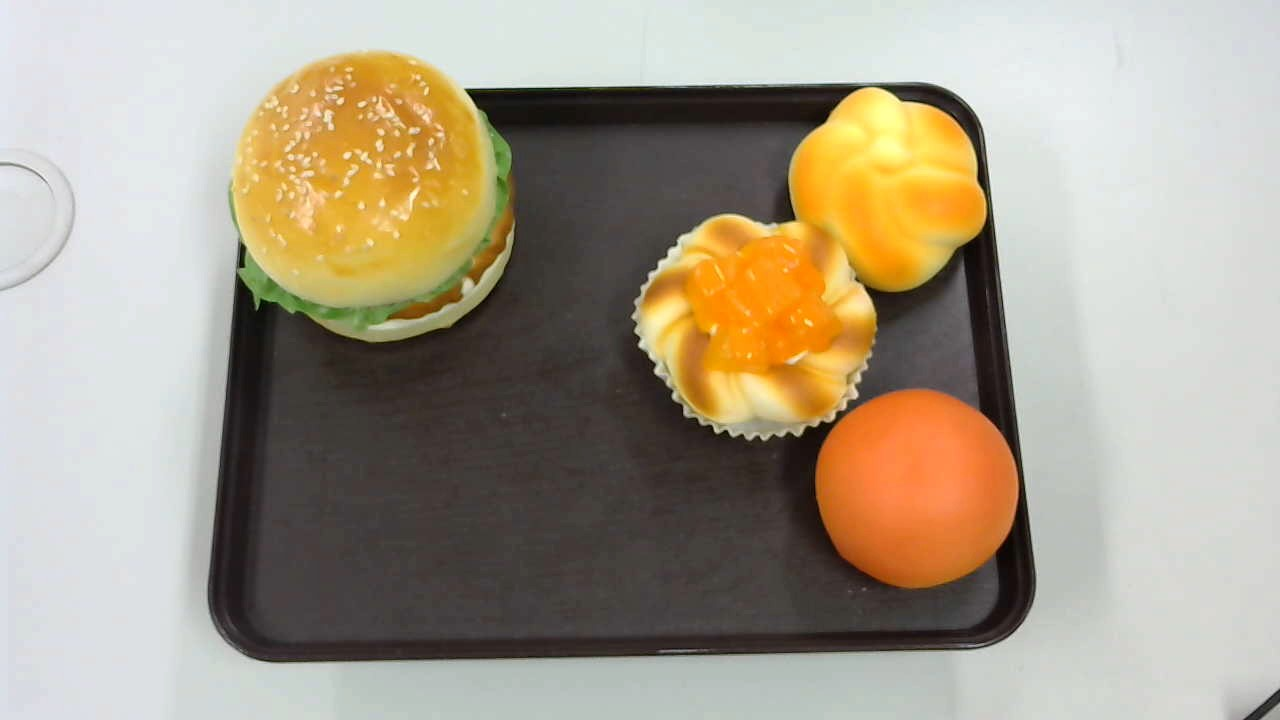bun: (815, 389, 1020, 589)
hamburger: (229, 52, 515, 341)
mango tart: (634, 213, 879, 439)
twist bread: (788, 86, 988, 291)
